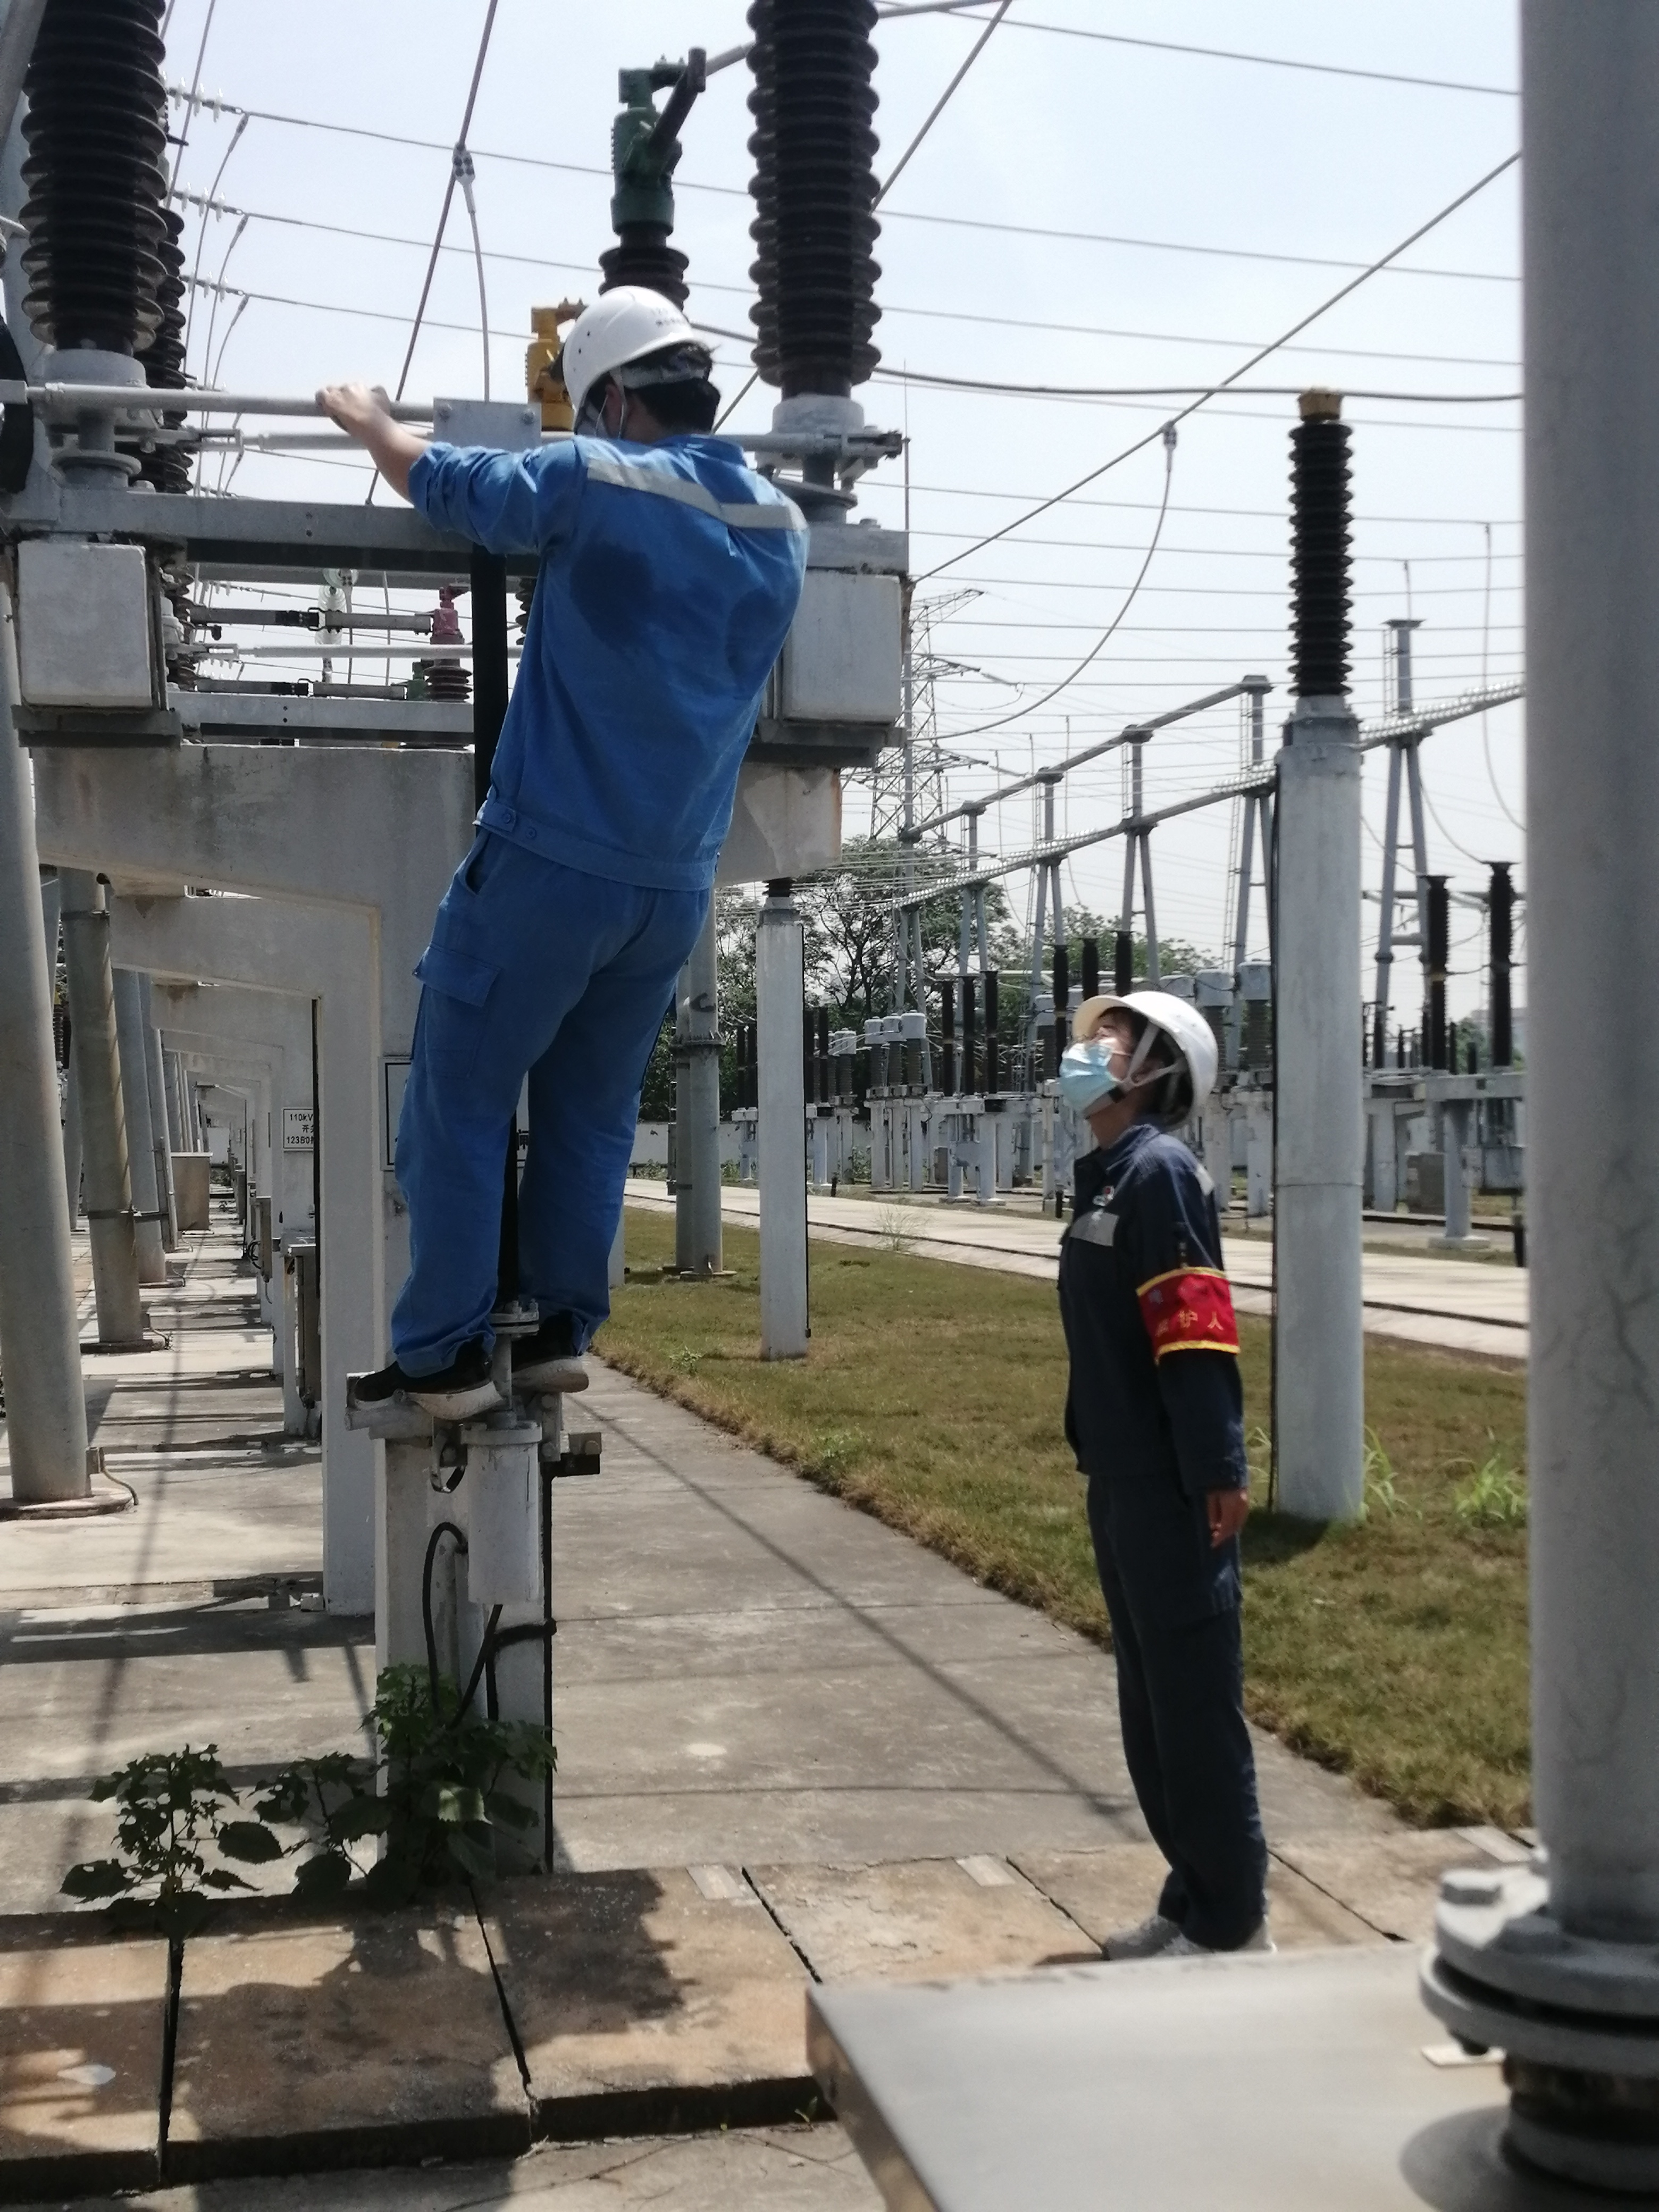badge: (1136, 1268, 1239, 1361)
downsuit: (380, 904, 718, 1365), (1090, 1493, 1270, 1908)
halt: (1055, 984, 1222, 1129), (564, 286, 716, 431)
hand: (318, 376, 393, 435), (1206, 1488, 1251, 1555)
person: (317, 287, 807, 1421), (1042, 980, 1275, 1952)
upsuit: (418, 426, 810, 879), (1053, 1134, 1246, 1484)
wrongtop: (314, 373, 460, 512)
